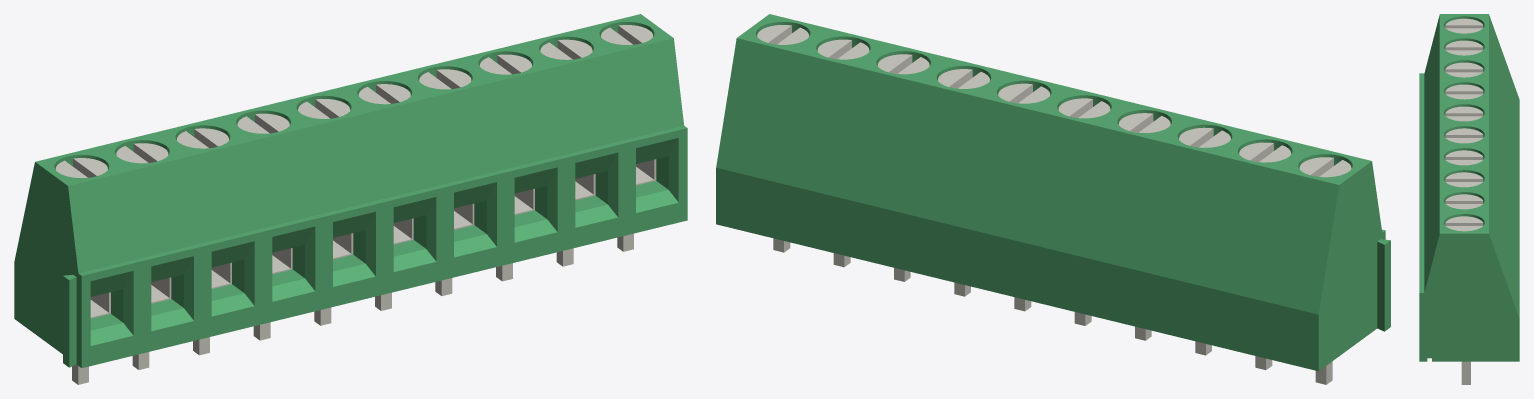
Rendered from kc-terminalblock_phoenix_mkds-1_5-10-5.08_1x10_p5.08mm_horizontal.glb.
The picture shows the model from 3 angles, left to right: view 1: azimuth 30°, elevation 25°; view 2: azimuth 150°, elevation 25°; view 3: azimuth 270°, elevation 25°; orthographic projection. The views are drawn at different scales.
Visible parts, largest first — view 1: 0.08333333333333333_0.4166666666666667_0.16666666666666666_0, 0.6666666666666666_0.6666666666666666_0.5833333333333334_0.8; view 2: 0.08333333333333333_0.4166666666666667_0.16666666666666666_0, 0.6666666666666666_0.6666666666666666_0.5833333333333334_0.8; view 3: 0.08333333333333333_0.4166666666666667_0.16666666666666666_0, 0.6666666666666666_0.6666666666666666_0.5833333333333334_0.8.
Boxes of the visible parts, x1,y1,x2,y2 form: 0.08333333333333333_0.4166666666666667_0.16666666666666666_0: [14, 14, 687, 367]; 0.6666666666666666_0.6666666666666666_0.5833333333333334_0.8: [55, 25, 656, 384]; 0.08333333333333333_0.4166666666666667_0.16666666666666666_0: [716, 14, 1390, 371]; 0.6666666666666666_0.6666666666666666_0.5833333333333334_0.8: [757, 25, 1351, 384]; 0.08333333333333333_0.4166666666666667_0.16666666666666666_0: [1419, 14, 1519, 361]; 0.6666666666666666_0.6666666666666666_0.5833333333333334_0.8: [1445, 18, 1483, 384].
Size of the model in its own units: 5.15 by 1.73 by 0.9796.
